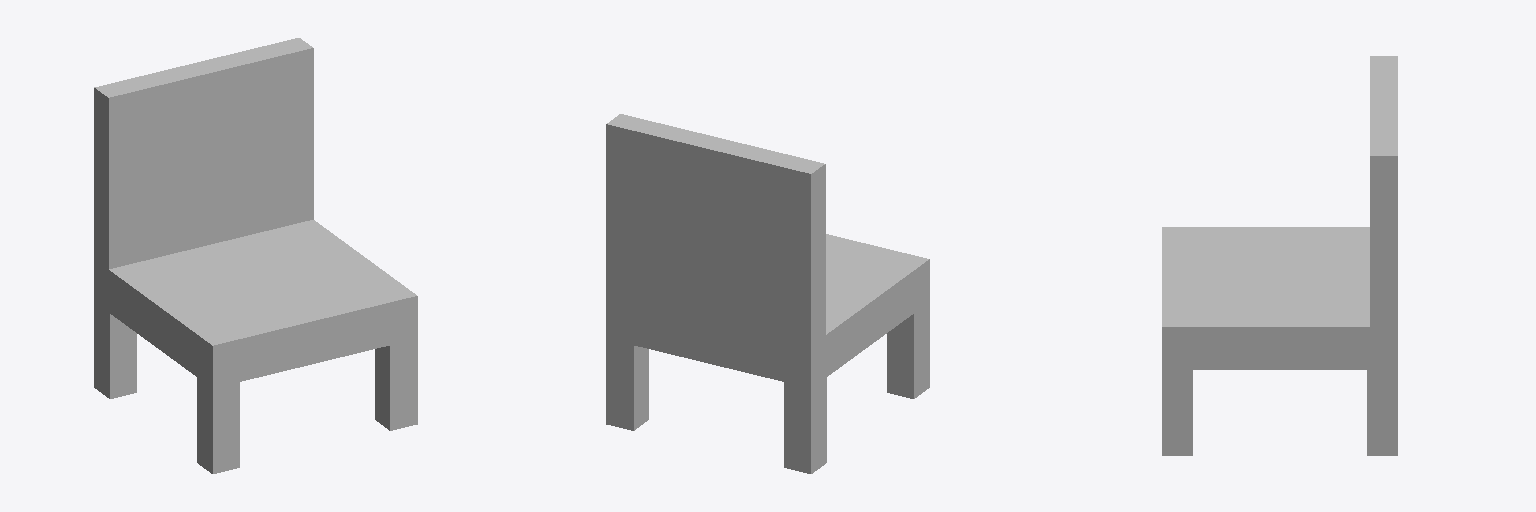
File: Chair.obj
The picture shows the model from 3 angles: view 1: azimuth 30°, elevation 25°; view 2: azimuth 150°, elevation 25°; view 3: azimuth 270°, elevation 25°; orthographic projection.
Parts seen in each view (by area): view 1: Chair; view 2: Chair; view 3: Chair.
Part boxes in pixels (left/top/right/bottom): Chair: left=94, top=38, right=417, bottom=473; Chair: left=606, top=114, right=929, bottom=473; Chair: left=1162, top=56, right=1397, bottom=455.
Size of the model in its own units: 1 by 1.4 by 1.